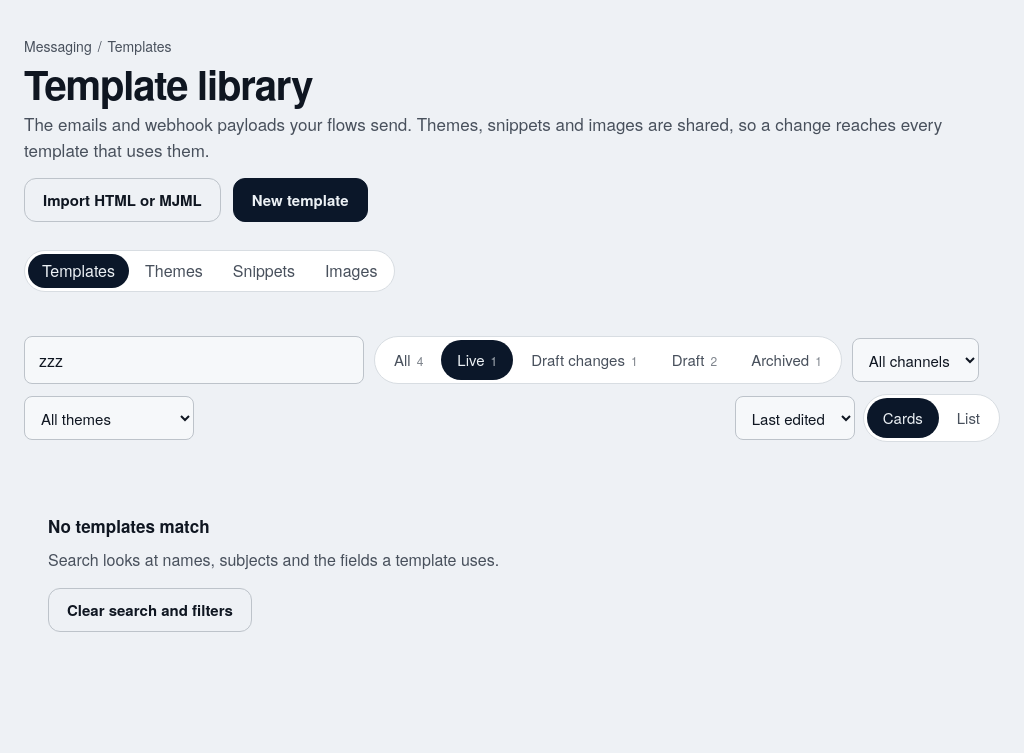
the template library › says nothing matches and clears the search and filters
Expected: the text "No templates match" is shown, [48,514,210,540]
Click the button "Clear search and filters": (150,610) [48,588,252,632]
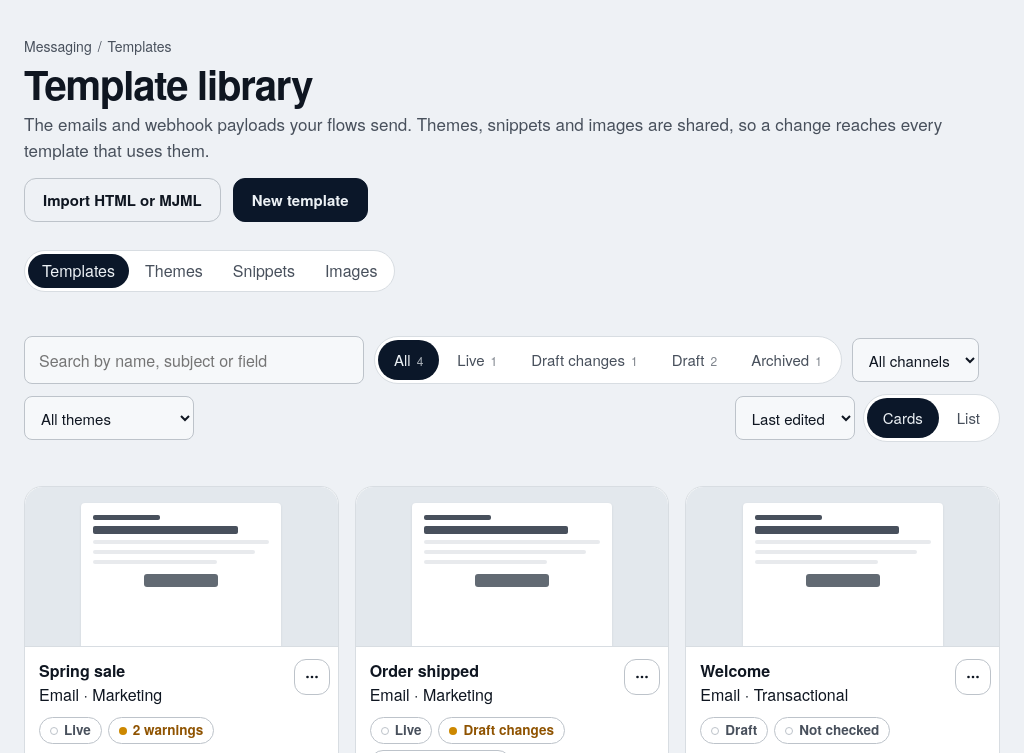
Expected: the link "Spring sale" is shown, [39,659,125,682]
Expected: the search field named "Search templates" is empty, [24,336,364,384]
